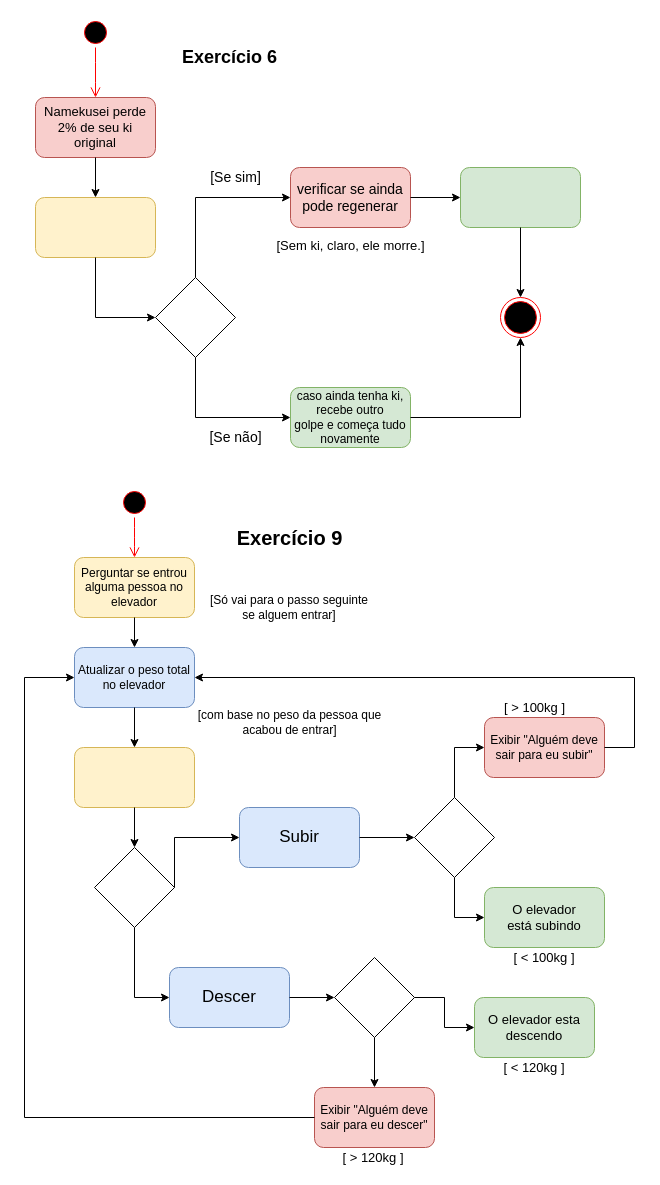
Image size: 660x1185. Some labels were removed from this diagram. The shapes that lost their labels are listed below. From the top down, each one's box as (x1, y1, x2, y2) in pixels, then its label:
(460, 166, 580, 228): Se não morreu, simplesmente recebe outro golpe e começa tudo
(34, 196, 156, 258): Verificar se o golpe retirou uma parte de seu corpo
(74, 746, 194, 808): Verificar se o próximo movimento do elevador será subir ou descer
